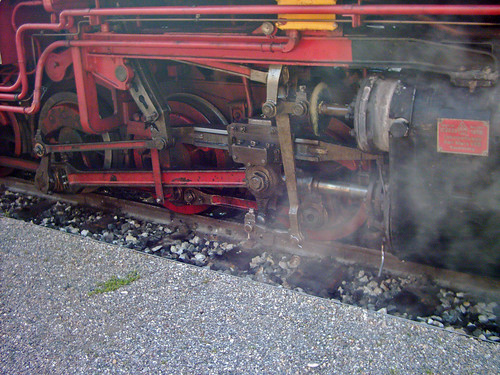train: (1, 1, 497, 264)
